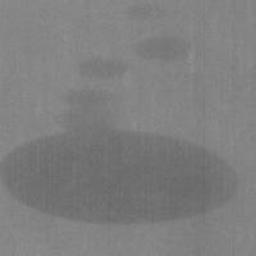Oil spot: (0, 52, 244, 229), (131, 33, 192, 65), (125, 1, 173, 23)
